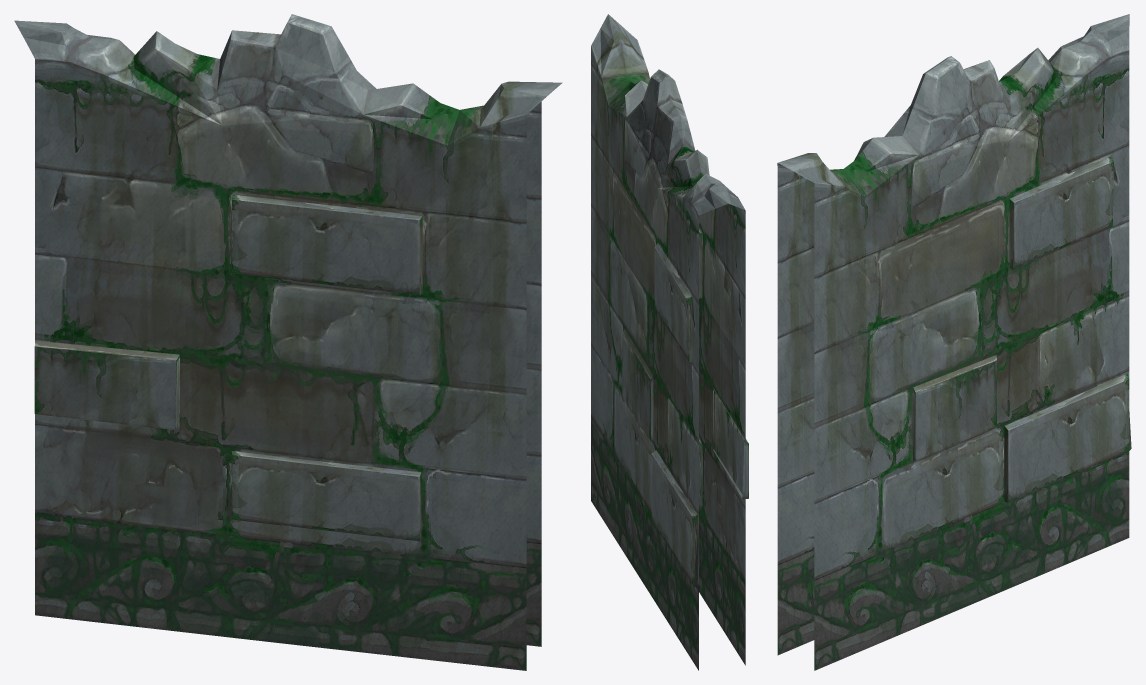
File: stemple_wall_diagonal_01.fbx
The picture shows the model from 3 angles, left to right: view 1: azimuth 30°, elevation 25°; view 2: azimuth 150°, elevation 25°; view 3: azimuth 270°, elevation 25°; orthographic projection. The views are drawn at different scales.
Parts seen in each view (by area): view 1: obj0.087; view 2: obj0.087; view 3: obj0.087.
Boxes of the visible parts, bbox=[...] form: obj0.087: bbox=[14, 14, 562, 670]; obj0.087: bbox=[591, 14, 748, 670]; obj0.087: bbox=[777, 14, 1131, 670].
Size of the model in its own units: 4.03 by 6.79 by 4.02.
